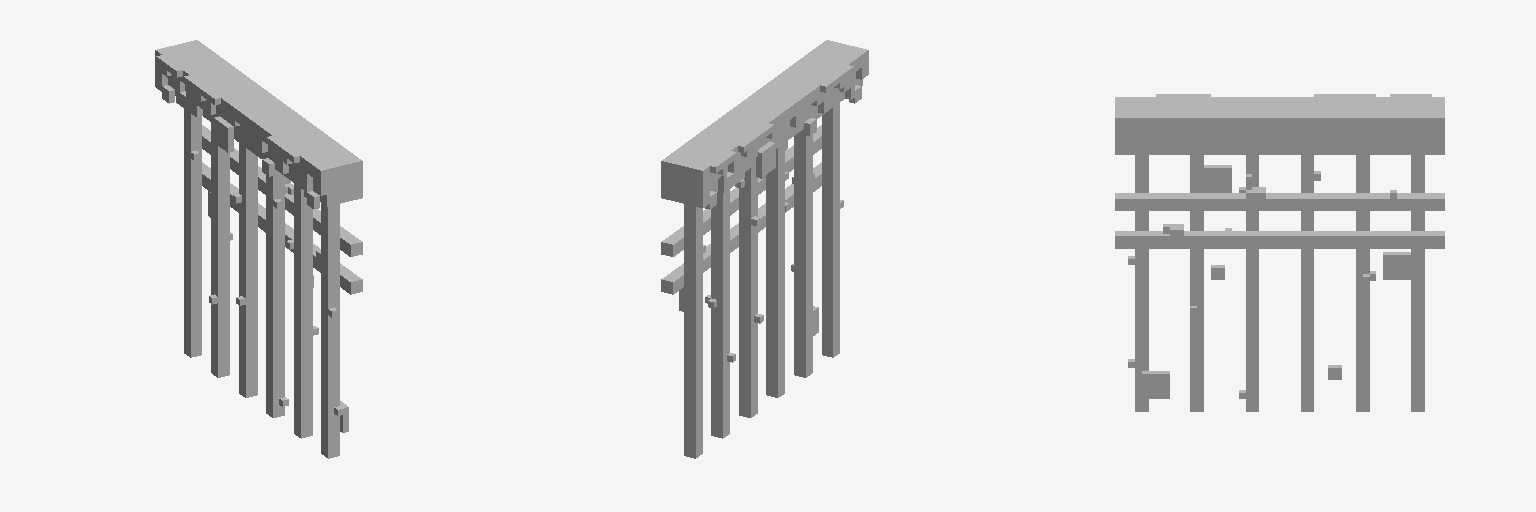
File: concreteBambooSupports-0.obj
3 renders of one model, left to right at view 1: azimuth 30°, elevation 25°; view 2: azimuth 150°, elevation 25°; view 3: azimuth 270°, elevation 25°, orthographic.
Visible parts, largest first — view 1: object 1; view 2: object 1; view 3: object 1.
Part boxes in pixels (x1,y1,x2,y2): object 1: (155,40,362,458); object 1: (661,40,868,458); object 1: (1115,94,1444,411).
Size of the model in its own units: 0.8 by 4.8 by 4.8.